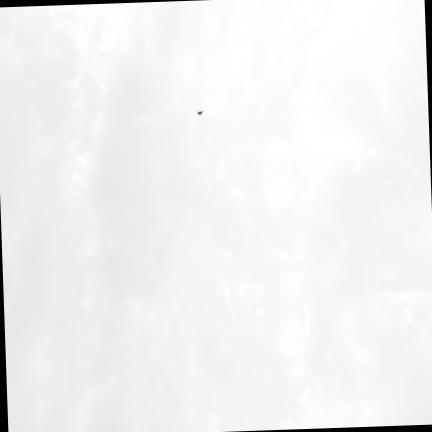Shahed: (196, 111, 203, 115)
